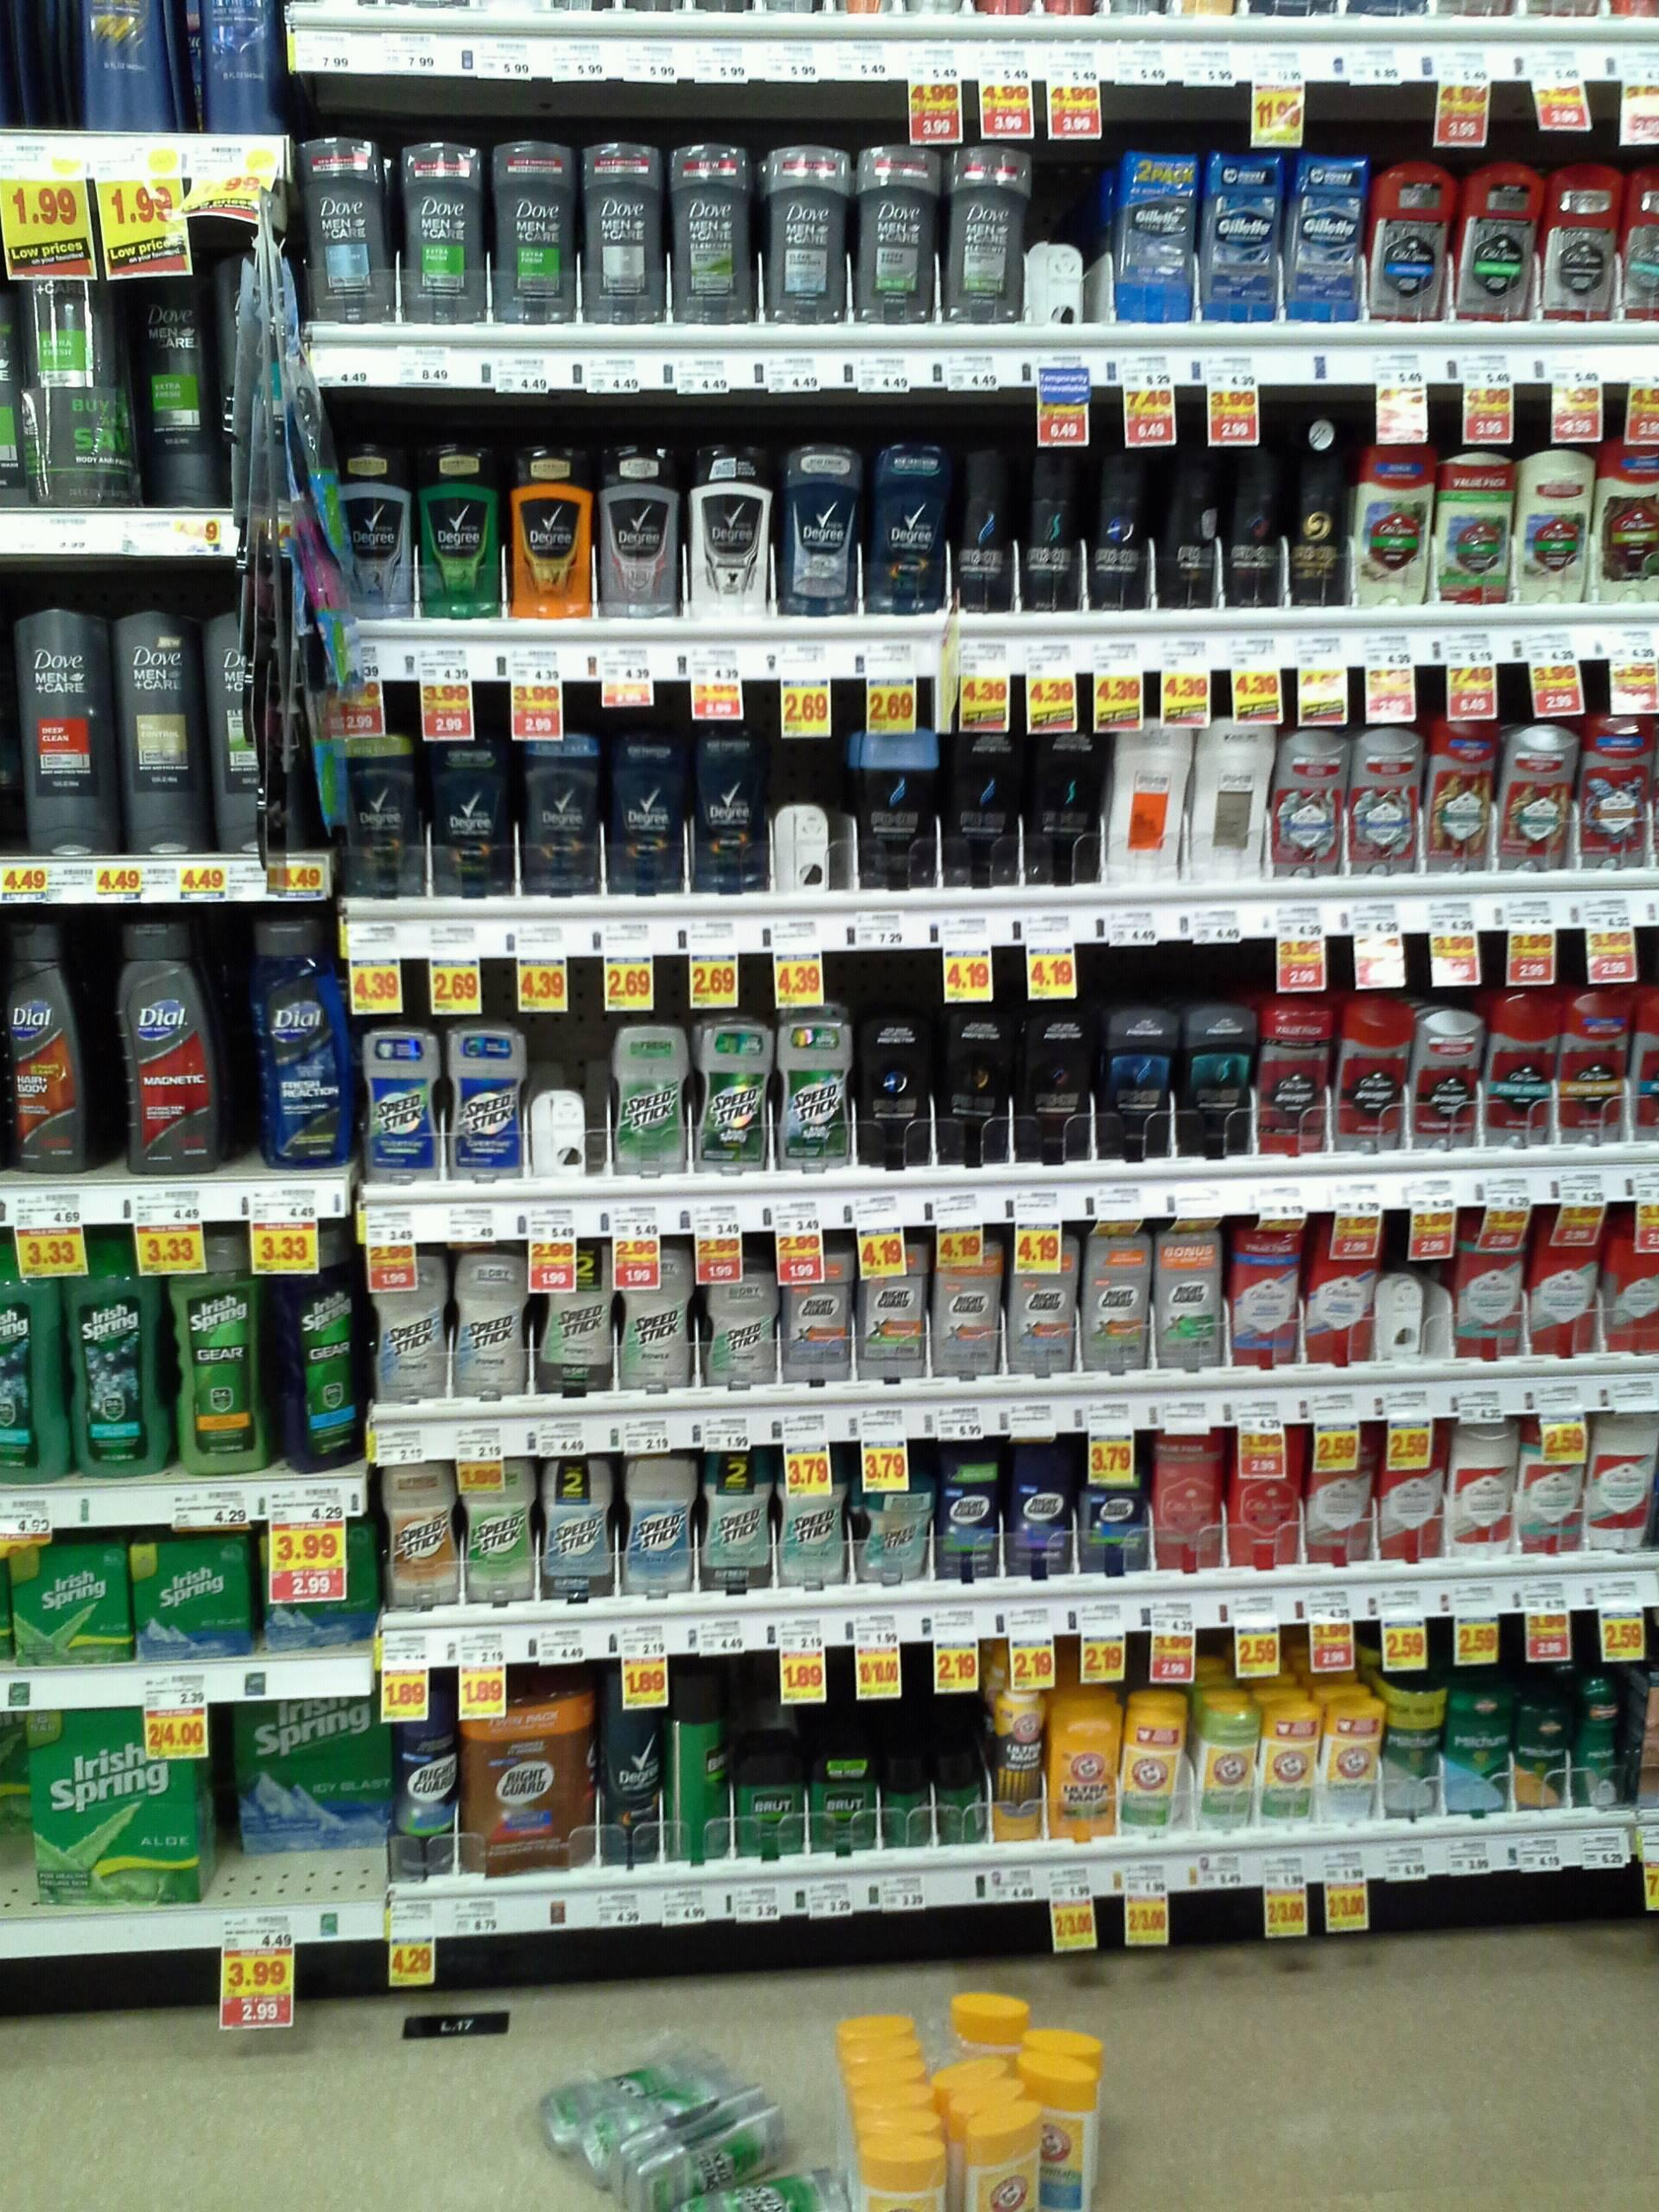misalignment: (856, 1966, 1127, 2212), (514, 2045, 835, 2212), (657, 1684, 732, 1855), (856, 1461, 931, 1581)
